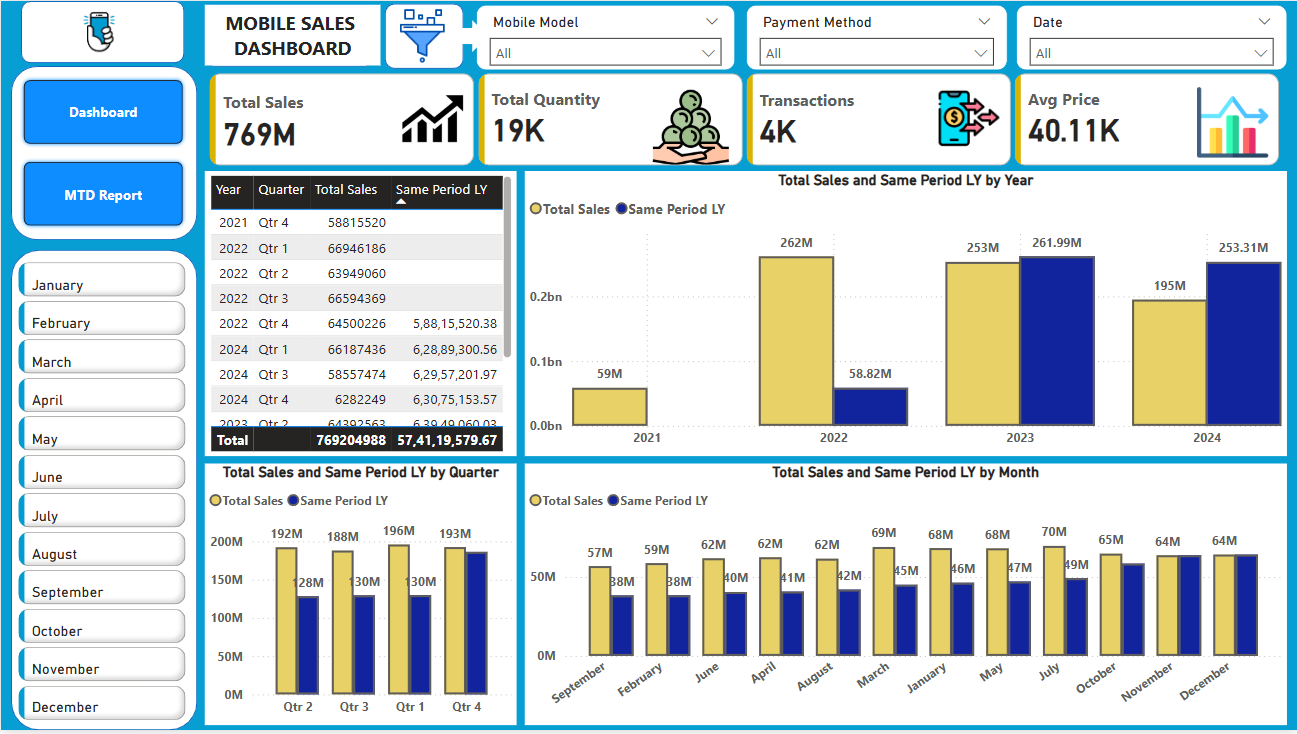

The page's visual inventory and layout, read from the dashboard file:
{"tool":"powerbi","page":{"name":"Last Year Sales","canvas":[1280,720],"ordinal":2},"visuals":[{"type":"shape","box":[9.3,64,184,172],"z":0},{"type":"cardVisual","fields":{"Data":["Mobile_Sales_Data.Total Sales","Mobile_Sales_Data.Total Quantity","Mobile_Sales_Data.Transactions","Mobile_Sales_Data.Avg Price"]},"box":[201.5,66.8,1068.7,101.3],"z":1000},{"type":"slicer","fields":{"Values":["Mobile_Sales_Data.Mobile Model"]},"box":[468.6,3.3,256,64.6],"z":2000},{"type":"slicer","fields":{"Values":["Mobile_Sales_Data.Payment Method"]},"box":[735.8,3.3,258.3,64.6],"z":3000},{"type":"slicer","fields":{"Values":["Custom_calendar.Date.Variation.Date Hierarchy.Year","Custom_calendar.Date.Variation.Date Hierarchy.Quarter","Custom_calendar.Date.Variation.Date Hierarchy.Month","Custom_calendar.Date.Variation.Date Hierarchy.Day"]},"box":[1001.9,3.3,268.3,64.6],"z":4000},{"type":"shape","box":[379.6,2.2,77.9,64.6],"z":5000},{"type":"image","box":[375.1,2.2,82.4,64.6],"z":6000},{"type":"shape","box":[446.4,18.9,34.5,32.3],"z":7000},{"type":"shape","box":[201.5,3.3,167,61.2],"z":8000},{"type":"textbox","box":[201.5,3.3,173.7,60.1],"z":9000},{"type":"shape","box":[9.3,245.3,184,474.7],"z":10000},{"type":"advancedSlicerVisual","fields":{"Values":["Custom_calendar.Date.Variation.Date Hierarchy.Month"]},"box":[12.8,252.6,175.6,462.8],"z":11000},{"type":"tableEx","fields":{"Values":["Custom_calendar.Date.Variation.Date Hierarchy.Year","Custom_calendar.Date.Variation.Date Hierarchy.Quarter","Mobile_Sales_Data.Total Sales","Mobile_Sales_Data.Same Period LY"]},"box":[201.5,168.1,308.4,281.6],"z":12000},{"type":"clusteredColumnChart","fields":{"Category":["Custom_calendar.Date.Variation.Date Hierarchy.Year","Custom_calendar.Date.Variation.Date Hierarchy.Quarter"],"Y":["Mobile_Sales_Data.Total Sales","Mobile_Sales_Data.Same Period LY"]},"box":[517.6,168.1,752.5,281.6],"z":13000},{"type":"clusteredColumnChart","fields":{"Category":["Custom_calendar.Date.Variation.Date Hierarchy.Year","Custom_calendar.Date.Variation.Date Hierarchy.Quarter"],"Y":["Mobile_Sales_Data.Total Sales","Mobile_Sales_Data.Same Period LY"]},"box":[201.5,456.4,308.4,258.3],"z":14000},{"type":"clusteredColumnChart","fields":{"Y":["Mobile_Sales_Data.Total Sales","Mobile_Sales_Data.Same Period LY"],"Category":["Custom_calendar.Date.Variation.Date Hierarchy.Month"]},"box":[517.6,456.4,752.5,258.3],"z":15000},{"type":"pageNavigator","box":[18.7,74.7,165.3,152],"z":16000},{"type":"shape","box":[20,0,161.3,61.3],"z":17000},{"type":"image","box":[9.3,0,174.7,61.3],"z":18000}]}

Visuals, with their boxes in screenshot pixels (x1, y1, x2, y2), scaled from the page's 1280x720 canvas onto the 1297x734 screenshot:
shape: region(9, 65, 196, 241)
cardVisual - Mobile_Sales_Data.Total Sales x Mobile_Sales_Data.Total Quantity: region(204, 68, 1287, 171)
slicer - Mobile_Sales_Data.Mobile Model: region(475, 3, 734, 69)
slicer - Mobile_Sales_Data.Payment Method: region(746, 3, 1007, 69)
slicer - Custom_calendar.Date.Variation.Date Hierarchy.Year x Custom_calendar.Date.Variation.Date Hierarchy.Quarter: region(1015, 3, 1287, 69)
shape: region(385, 2, 464, 68)
image: region(380, 2, 464, 68)
shape: region(452, 19, 487, 52)
shape: region(204, 3, 373, 66)
textbox: region(204, 3, 380, 65)
shape: region(9, 250, 196, 733)
advancedSlicerVisual - Custom_calendar.Date.Variation.Date Hierarchy.Month: region(13, 258, 191, 729)
tableEx - Custom_calendar.Date.Variation.Date Hierarchy.Year x Custom_calendar.Date.Variation.Date Hierarchy.Quarter: region(204, 171, 517, 458)
clusteredColumnChart - Custom_calendar.Date.Variation.Date Hierarchy.Year x Custom_calendar.Date.Variation.Date Hierarchy.Quarter: region(524, 171, 1287, 458)
clusteredColumnChart - Custom_calendar.Date.Variation.Date Hierarchy.Year x Custom_calendar.Date.Variation.Date Hierarchy.Quarter: region(204, 465, 517, 729)
clusteredColumnChart - Mobile_Sales_Data.Total Sales x Mobile_Sales_Data.Same Period LY: region(524, 465, 1287, 729)
pageNavigator: region(19, 76, 186, 231)
shape: region(20, 0, 184, 62)
image: region(9, 0, 186, 62)
